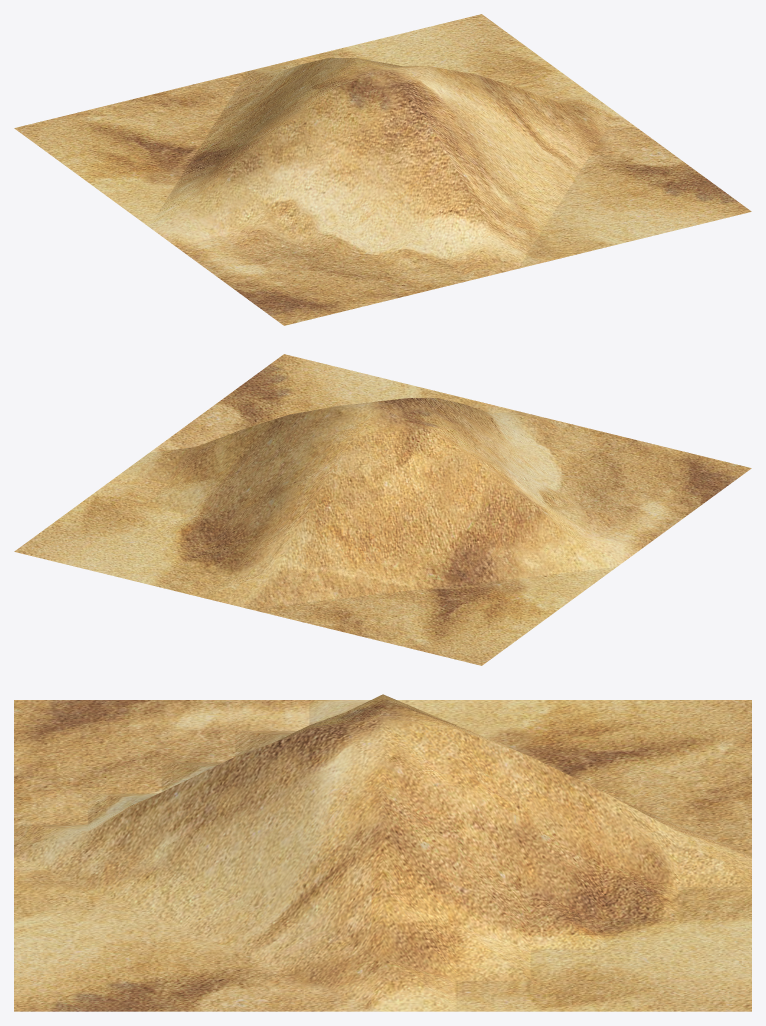
Rendered from sand.fbx.
3 renders of one model, top to bottom at view 1: azimuth 30°, elevation 25°; view 2: azimuth 150°, elevation 25°; view 3: azimuth 270°, elevation 25°, orthographic. The views are drawn at different scales.
Parts seen in each view (by area): view 1: obj1; view 2: obj1; view 3: obj1.
Boxes of the visible parts, <box> form: obj1: <box>14,14,751,325</box>; obj1: <box>14,354,751,665</box>; obj1: <box>14,694,751,1011</box>.
Bounding box in the file's own units: 200 × 40.88 × 200.
1 material, 1 textured.
